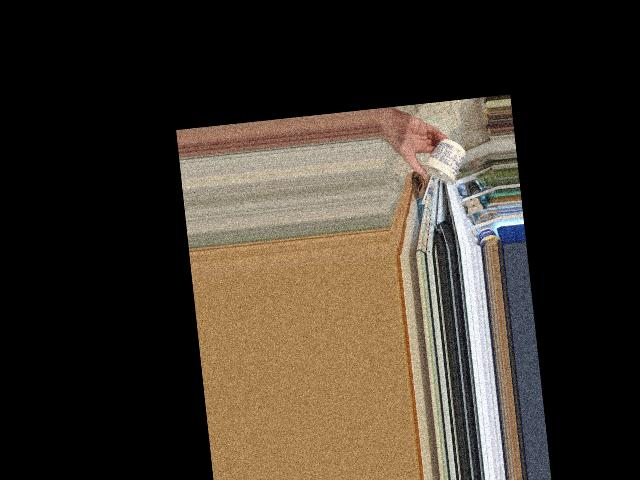cotage: (423, 143, 462, 189)
